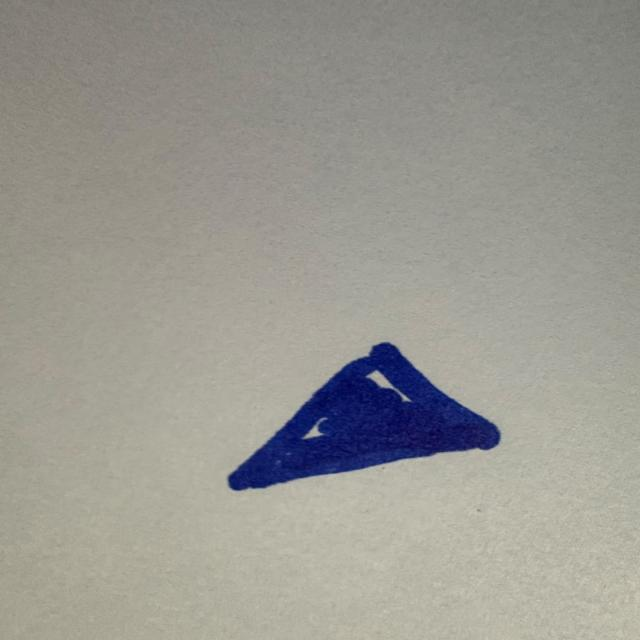Triangle: (228, 343, 500, 490)
